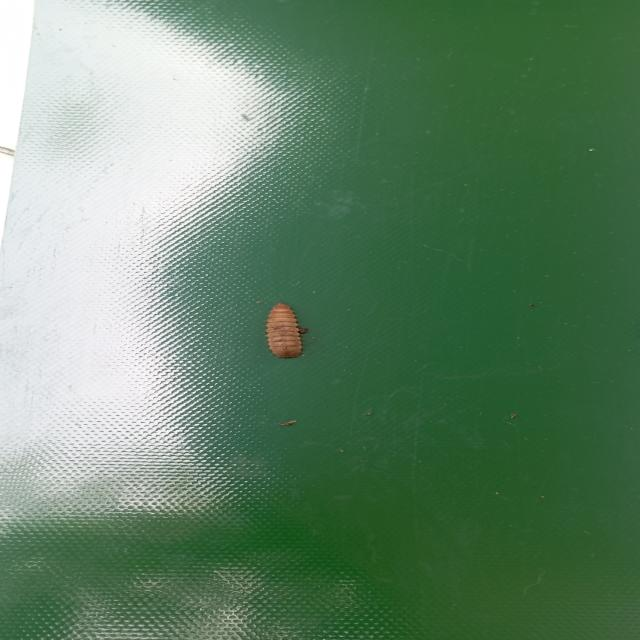Maggot: (264, 304, 307, 361)
